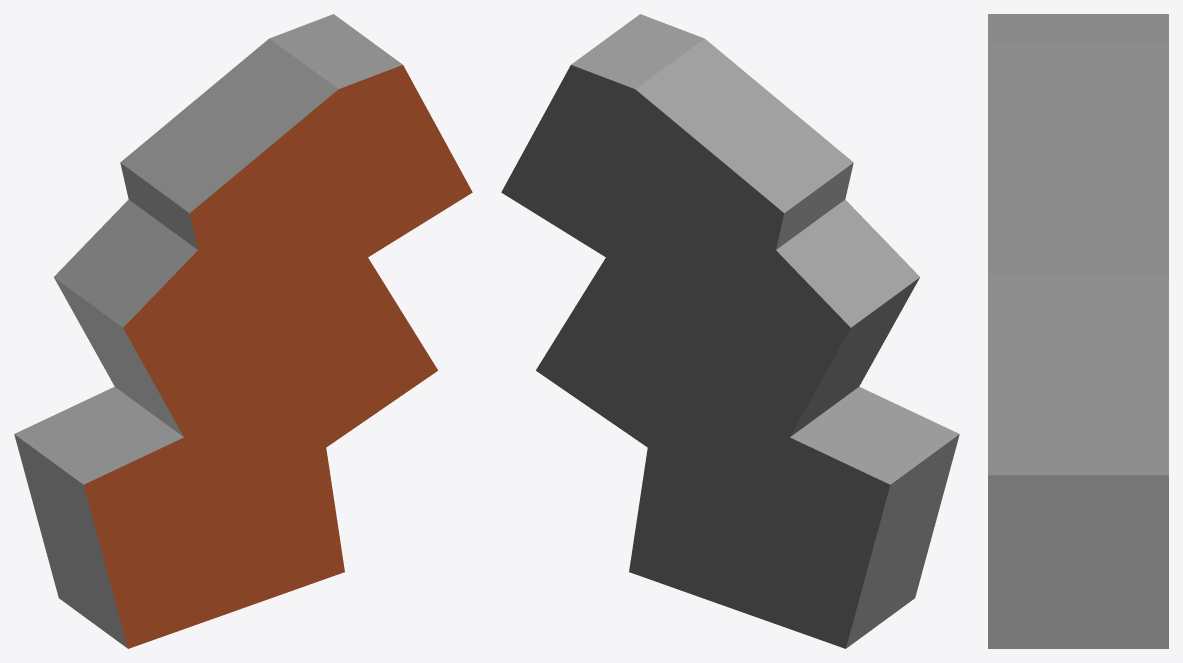
Rendered from construction_4720_assumed_A_Casa_h6m.obj.
3 views of the same model, side by side, from view 1: azimuth 30°, elevation 25°; view 2: azimuth 150°, elevation 25°; view 3: azimuth 270°, elevation 25° (orthographic). The views are drawn at different scales.
Parts seen in each view (by area): view 1: construction_4720_assumed_A_Casa; view 2: construction_4720_assumed_A_Casa; view 3: construction_4720_assumed_A_Casa.
Part boxes in pixels (box(x1,y1,x2,y2)): construction_4720_assumed_A_Casa: box(14, 14, 472, 648); construction_4720_assumed_A_Casa: box(501, 14, 959, 648); construction_4720_assumed_A_Casa: box(988, 14, 1168, 648).
Size of the model in its own units: 19.43 by 24.67 by 6.
